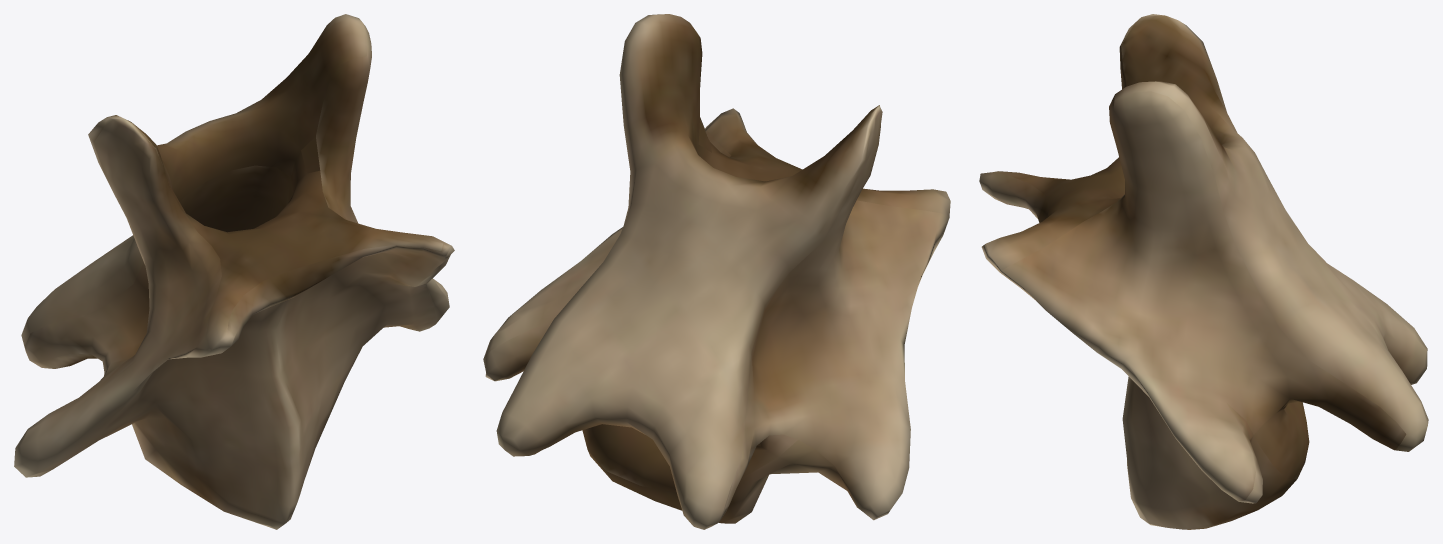
The model's file is Cervical_Vertebrae3.glb.
The picture shows the model from 3 angles, left to right: view 1: azimuth 30°, elevation 25°; view 2: azimuth 150°, elevation 25°; view 3: azimuth 270°, elevation 25°; orthographic projection. The views are drawn at different scales.
Visible parts, largest first — view 1: Horse_low:SelSet_45Merged_L_Frt_Sesamoid_Bones_1; view 2: Horse_low:SelSet_45Merged_L_Frt_Sesamoid_Bones_1; view 3: Horse_low:SelSet_45Merged_L_Frt_Sesamoid_Bones_1.
Part boxes in pixels (x1,y1,x2,y2): Horse_low:SelSet_45Merged_L_Frt_Sesamoid_Bones_1: (14,14,454,529); Horse_low:SelSet_45Merged_L_Frt_Sesamoid_Bones_1: (483,14,950,529); Horse_low:SelSet_45Merged_L_Frt_Sesamoid_Bones_1: (979,14,1428,529).
Size of the model in its own units: 0.1379 by 0.1533 by 0.1292.
1 material, 1 textured.
